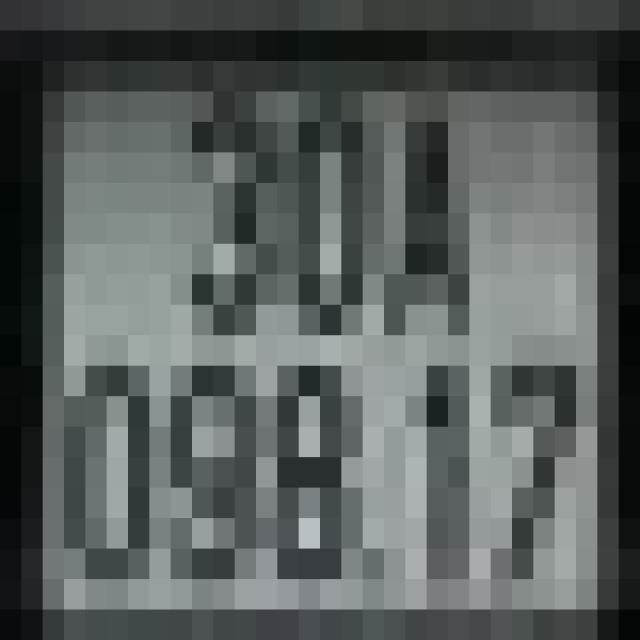0: (277, 92, 363, 336), (64, 366, 149, 579)
1: (406, 366, 470, 579)
3: (171, 92, 277, 336)
7: (491, 366, 576, 579)
8: (277, 366, 363, 579)
9: (171, 366, 256, 579)
A: (373, 76, 480, 351)
